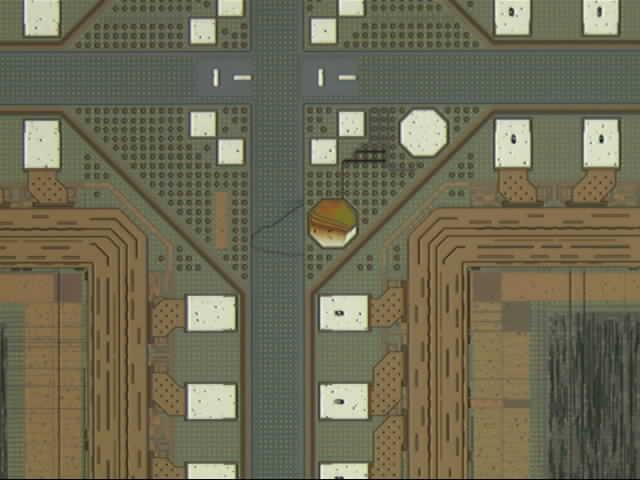BLOCK ETCH: (242, 189, 372, 267)
